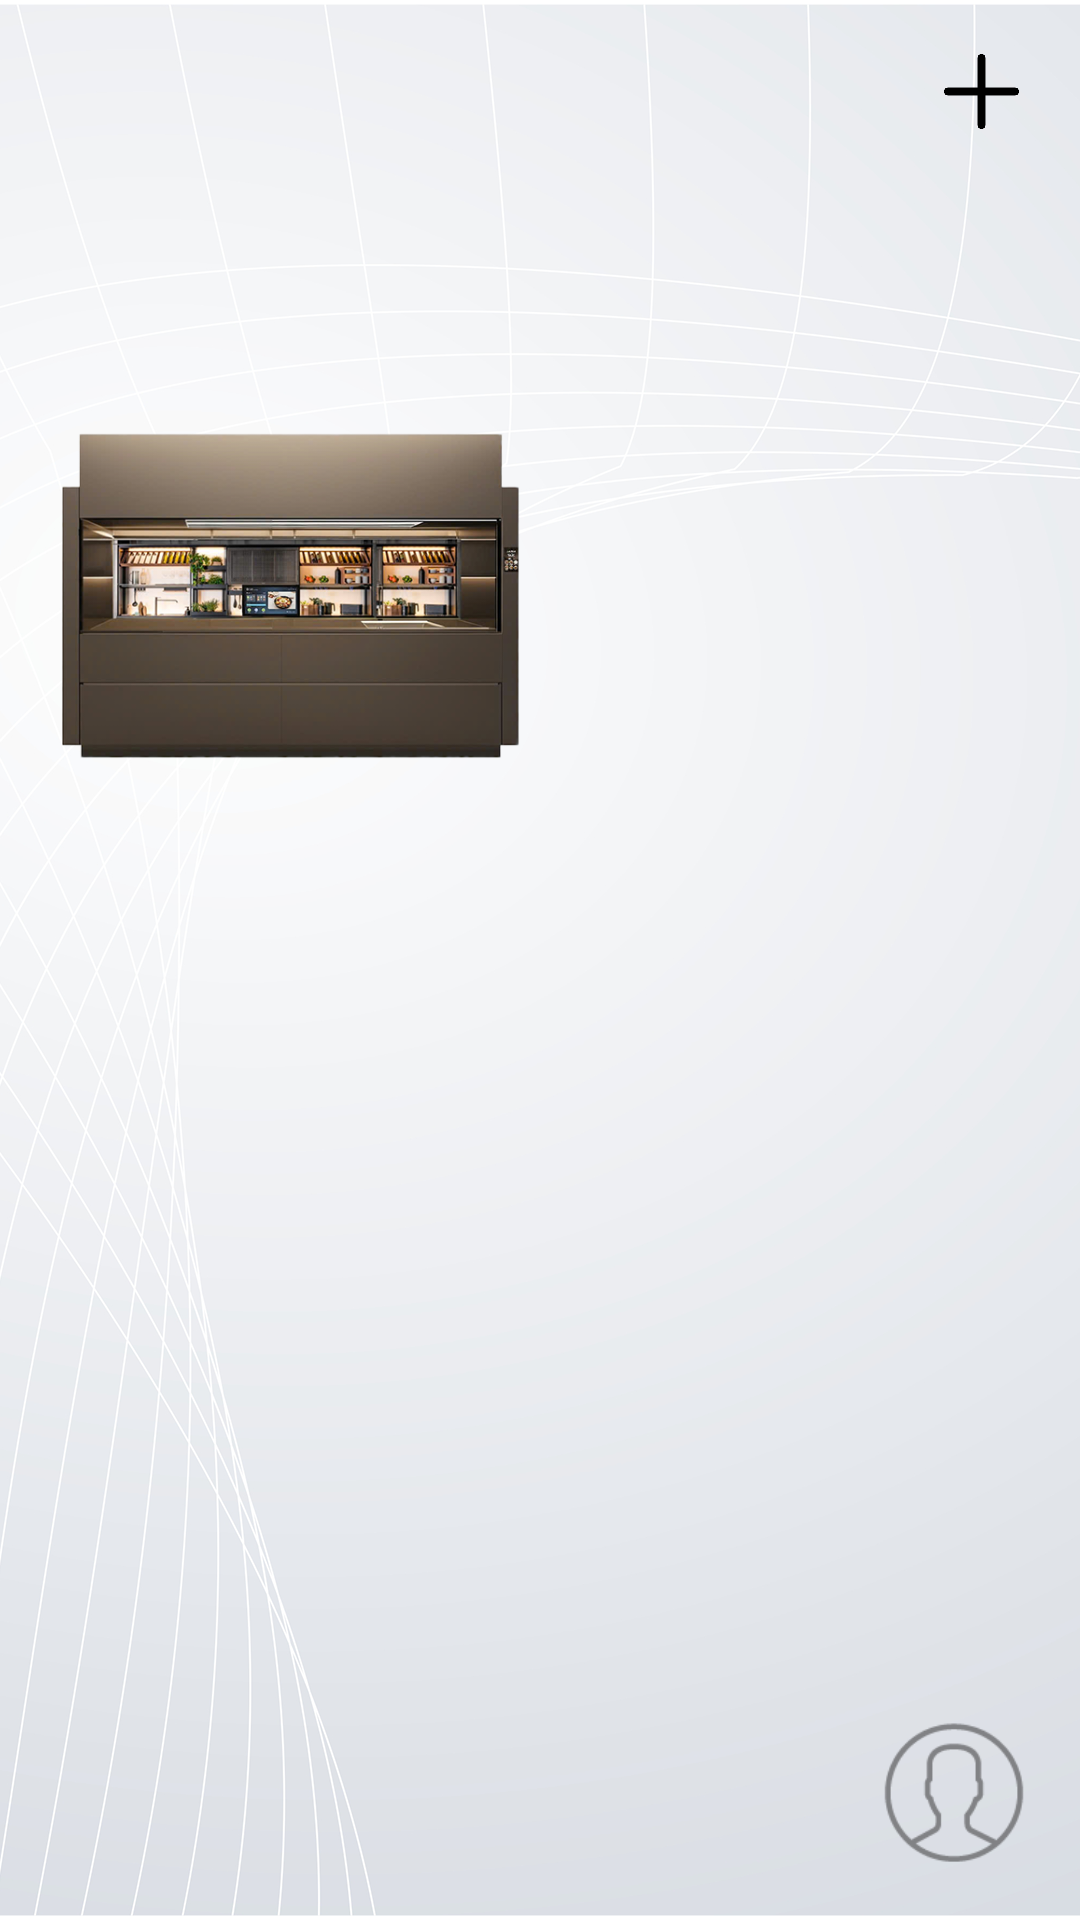

Icons on this 1080px×1920px Android screen, each with its box as {"x1": x1, "y1": y1, "x2": x2, "y2": y2}:
Thêm thiết bị: {"x1": 944, "y1": 54, "x2": 1019, "y2": 129}
Tài khoản: {"x1": 885, "y1": 1723, "x2": 1023, "y2": 1862}
